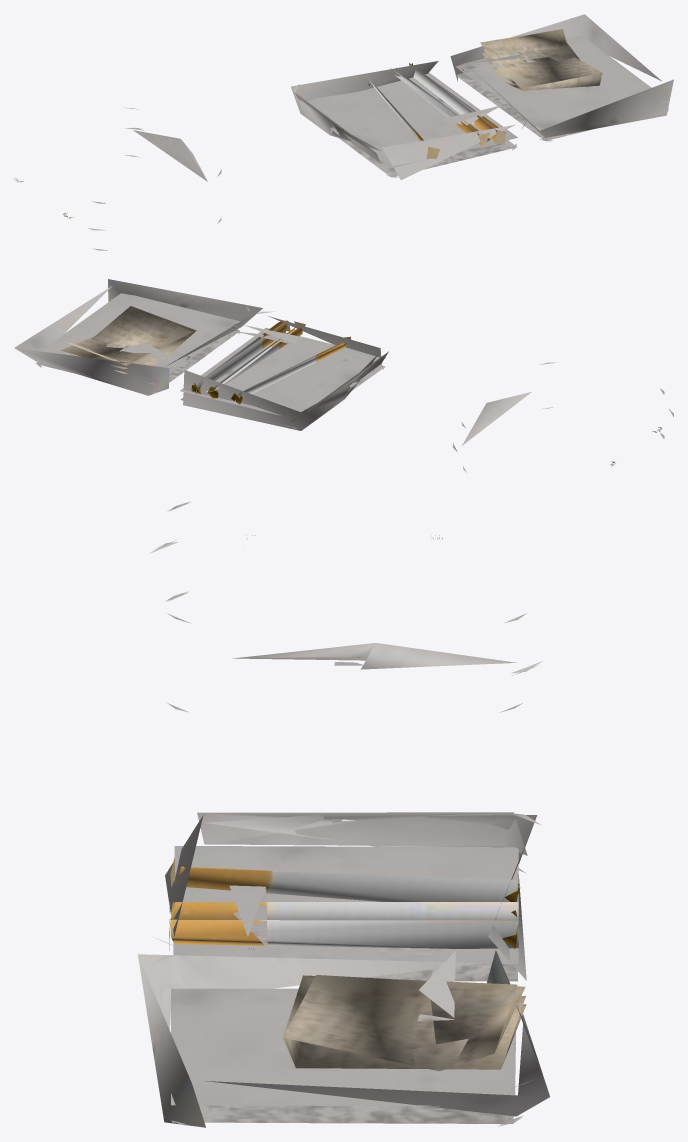
The model's file is cigarette_case.glb.
3 views of the same model, one above another, from view 1: azimuth 30°, elevation 25°; view 2: azimuth 150°, elevation 25°; view 3: azimuth 270°, elevation 25° (orthographic). The views are drawn at different scales.
Visible parts, largest first — view 1: cigarette_case_cover_b; view 2: cigarette_case_cover_b; view 3: cigarette_case_cover_b.
Boxes of the visible parts, x1=… form: cigarette_case_cover_b: x1=14, y1=14, x2=673, y2=250; cigarette_case_cover_b: x1=14, y1=279, x2=673, y2=472; cigarette_case_cover_b: x1=137, y1=501, x2=549, y2=1127.
Size of the model in its own units: 0.3238 by 0.0249 by 0.1013.
Materials: 1 (1 with a texture image).
